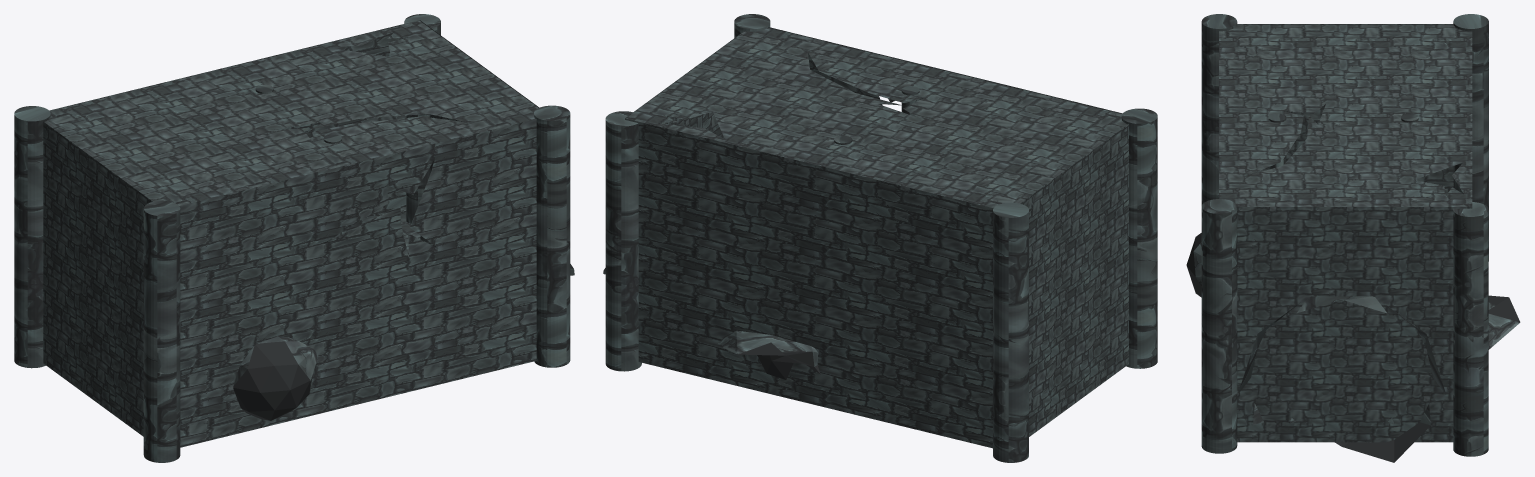
File: room.fbx
3 renders of one model, left to right at view 1: azimuth 30°, elevation 25°; view 2: azimuth 150°, elevation 25°; view 3: azimuth 270°, elevation 25°, orthographic. The views are drawn at different scales.
Parts seen in each view (by area): view 1: Cube; view 2: Cube; view 3: Cube.
Boxes of the visible parts, x1,y1,x2,y2 form: Cube: (14,14,574,462); Cube: (603,14,1157,462); Cube: (1186,14,1520,462).
Bounding box in the file's own units: 1025 × 564 × 694.
